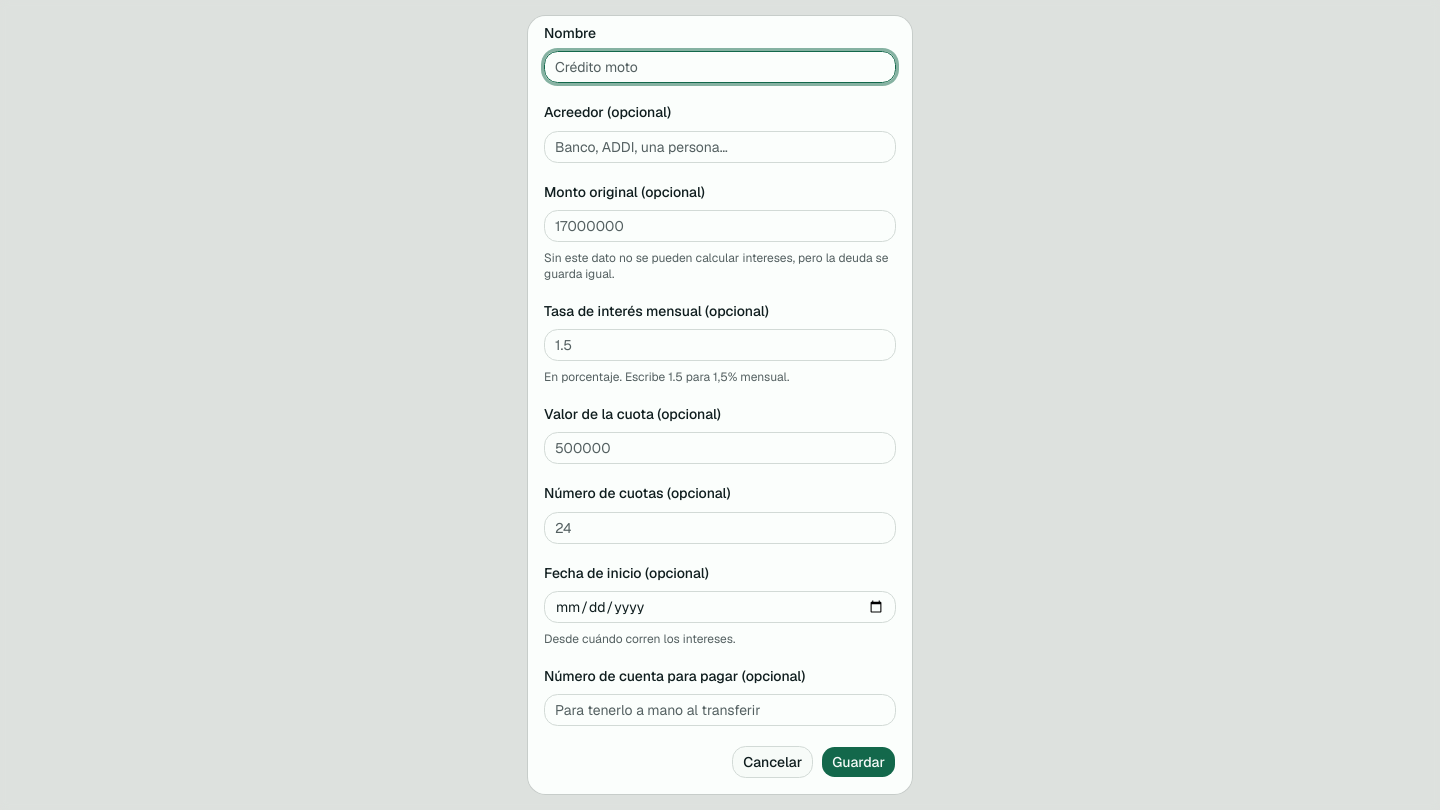
Scenario: DebtForm › does not save without a name
(page scrolled)
Click the button "Guardar": (859, 762) [821,746,896,778]
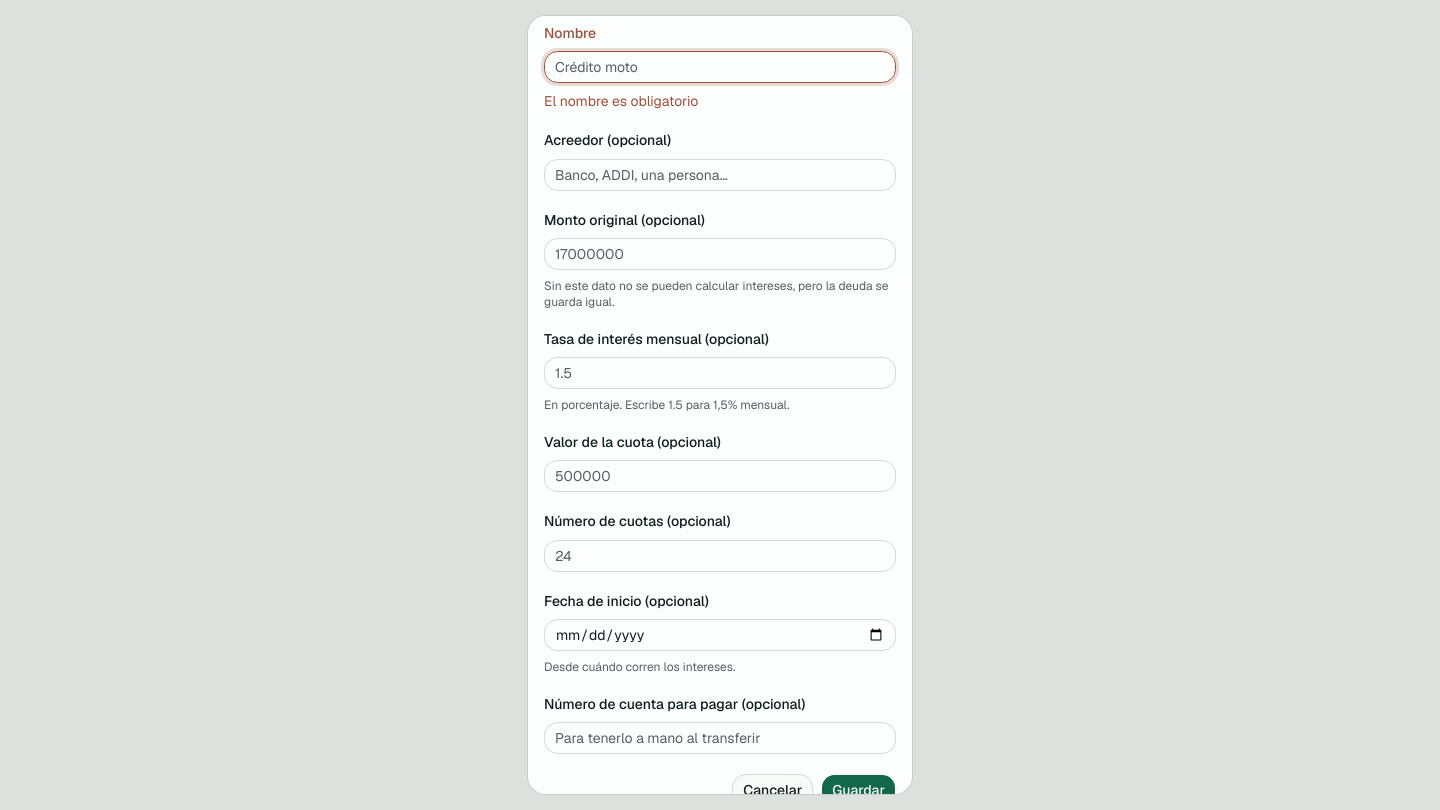
Now the text "El nombre es obligatorio" is shown, box [544,92,698,110]
